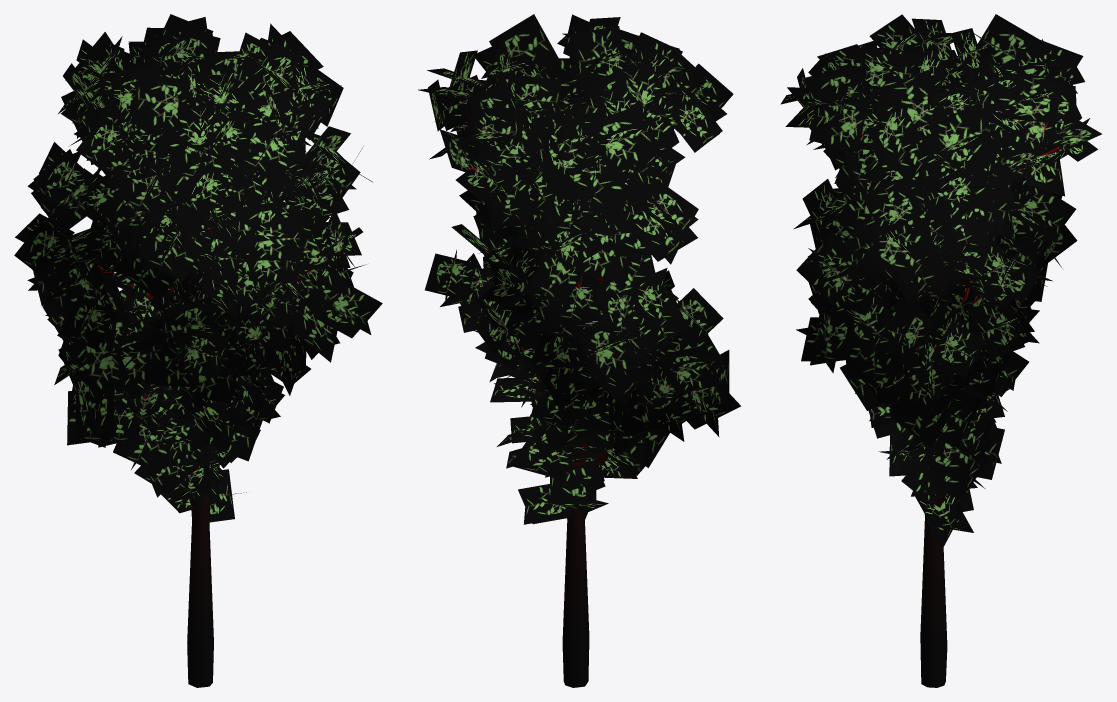
File: Tree_StreetHornbeamA.fbx
3 views of the same model, side by side, from view 1: azimuth 30°, elevation 25°; view 2: azimuth 150°, elevation 25°; view 3: azimuth 270°, elevation 25° (orthographic).
Parts seen in each view (by area): view 1: StreetHornbeamA_LOD0; view 2: StreetHornbeamA_LOD0; view 3: StreetHornbeamA_LOD0.
Part boxes in pixels (x1,y1,x2,y2): StreetHornbeamA_LOD0: (14, 14, 382, 687); StreetHornbeamA_LOD0: (418, 14, 740, 687); StreetHornbeamA_LOD0: (780, 14, 1101, 687).
Size of what is drawn, in the model's own units: 4.6 by 9.02 by 4.1.
